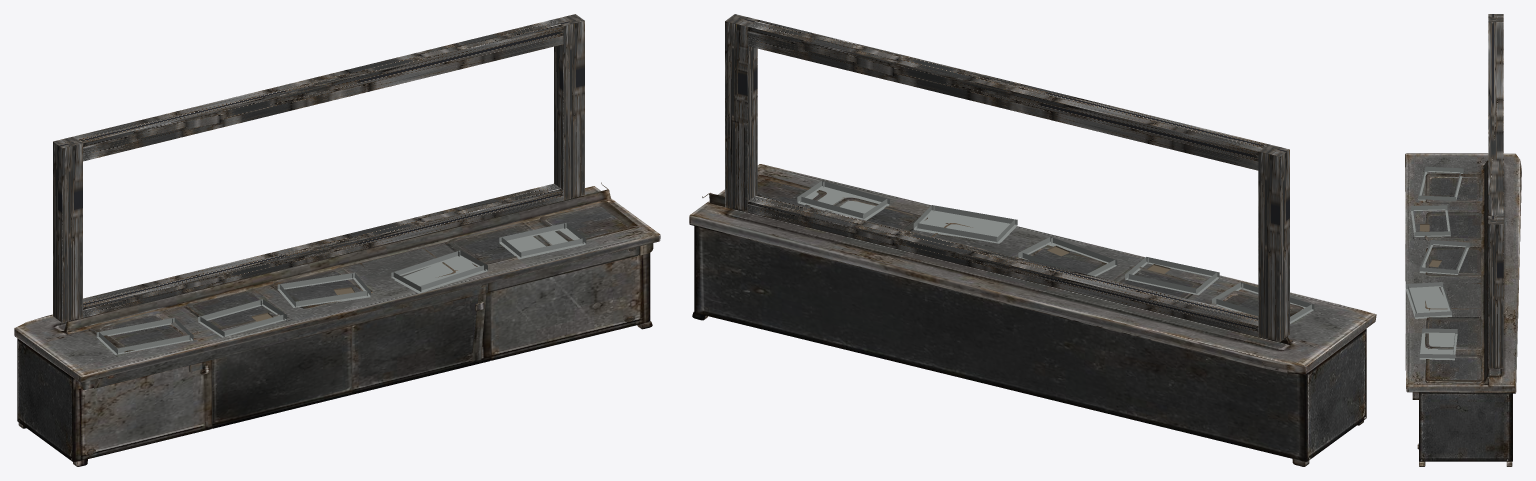
Rendered from Industrial Kitchen Counter - Double Length Bunker.glb.
3 renders of one model, left to right at view 1: azimuth 30°, elevation 25°; view 2: azimuth 150°, elevation 25°; view 3: azimuth 270°, elevation 25°, orthographic. The views are drawn at different scales.
Visible parts, largest first — view 1: Double Length Bunker Kitchen Counter, Hollow Taller Kitchen Window Frame, Irregular Cafeteria Trays_eb3c60; view 2: Double Length Bunker Kitchen Counter, Hollow Taller Kitchen Window Frame, Irregular Cafeteria Trays_eb3c60; view 3: Double Length Bunker Kitchen Counter, Hollow Taller Kitchen Window Frame, Irregular Cafeteria Trays_eb3c60, Irregular Cafeteria Trays_0c7869.
Boxes of the visible parts, x1,y1,x2,y2 form: Double Length Bunker Kitchen Counter: (14,182,660,466); Hollow Taller Kitchen Window Frame: (53,14,584,322); Irregular Cafeteria Trays_eb3c60: (96,223,586,354); Double Length Bunker Kitchen Counter: (689,164,1376,466); Hollow Taller Kitchen Window Frame: (725,14,1289,341); Irregular Cafeteria Trays_eb3c60: (797,181,1314,323); Double Length Bunker Kitchen Counter: (1405,153,1521,466); Hollow Taller Kitchen Window Frame: (1488,14,1503,368); Irregular Cafeteria Trays_eb3c60: (1405,166,1469,360); Irregular Cafeteria Trays_0c7869: (1419,224,1441,267).
Bounding box in the file's own units: 2 × 0.93 × 0.4224.
Materials: 3 (1 with a texture image).
